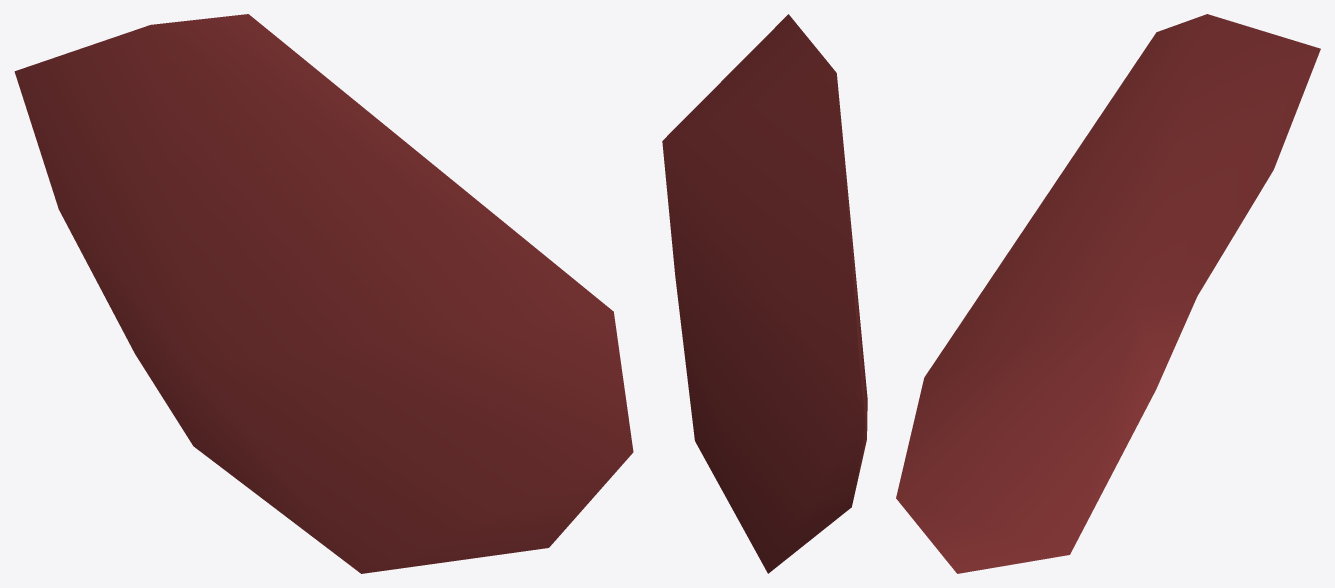
The model's file is zygomaticus-minor-muscle-or.glb.
The picture shows the model from 3 angles, left to right: view 1: azimuth 30°, elevation 25°; view 2: azimuth 150°, elevation 25°; view 3: azimuth 270°, elevation 25°; orthographic projection. The views are drawn at different scales.
Parts seen in each view (by area): view 1: Zygomaticus minor muscle.or; view 2: Zygomaticus minor muscle.or; view 3: Zygomaticus minor muscle.or.
Boxes of the visible parts, x1,y1,x2,y2 form: Zygomaticus minor muscle.or: (14,14,633,573); Zygomaticus minor muscle.or: (662,14,867,573); Zygomaticus minor muscle.or: (896,14,1320,573).
Size of the model in its own units: 0.0066 by 0.00885 by 0.0069.
